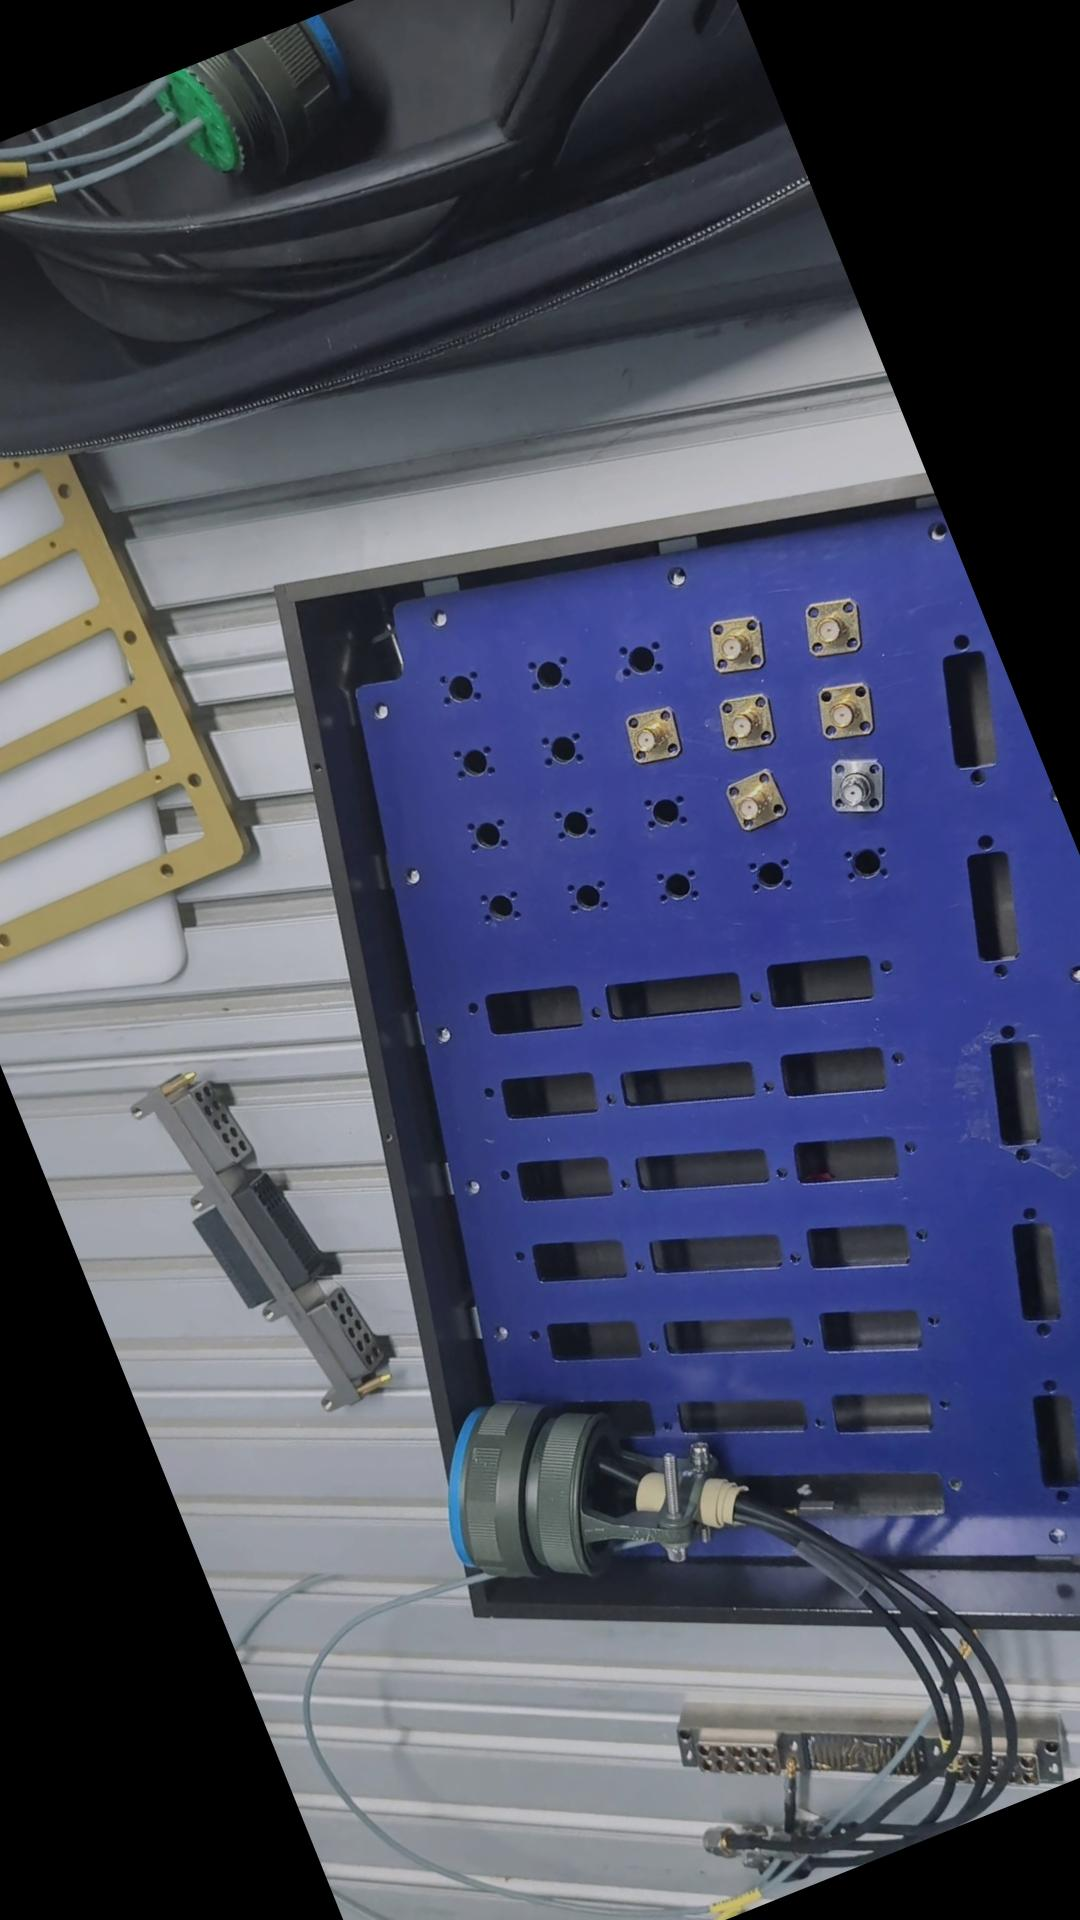SMA: (787, 587, 873, 669), (691, 607, 777, 687), (709, 762, 793, 843), (804, 676, 884, 754), (609, 698, 688, 773), (815, 746, 891, 823), (707, 688, 781, 761)
